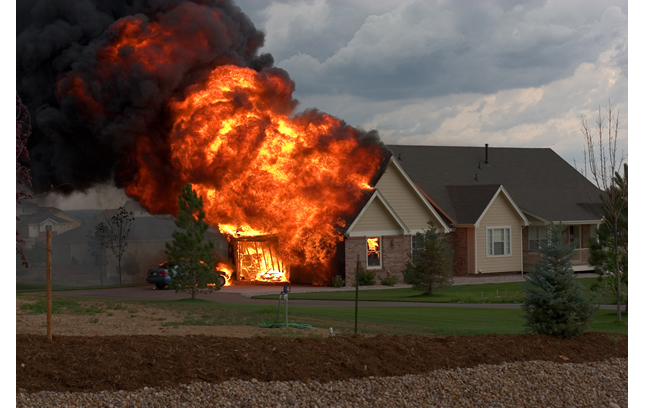fire: (77, 2, 392, 281)
